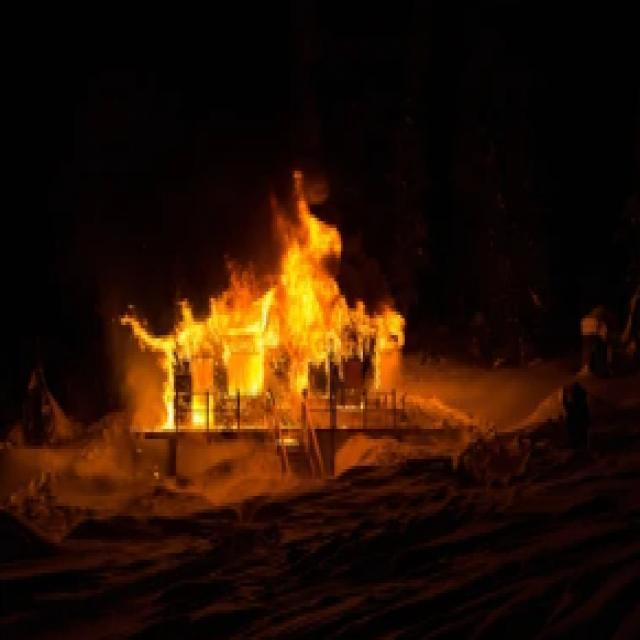Fire: (125, 157, 411, 430)
